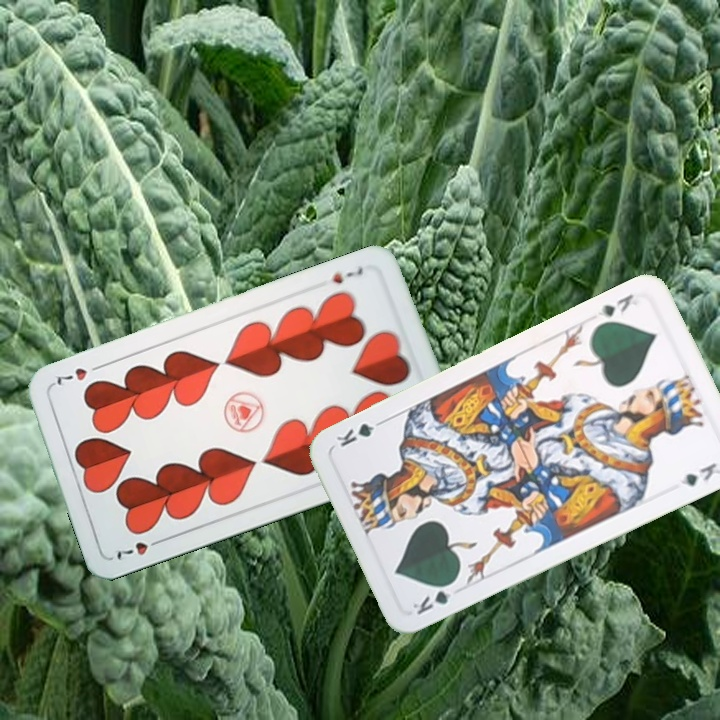GK: (408, 577, 459, 618), (594, 289, 636, 320)
H7: (112, 534, 167, 562), (328, 263, 366, 286)
